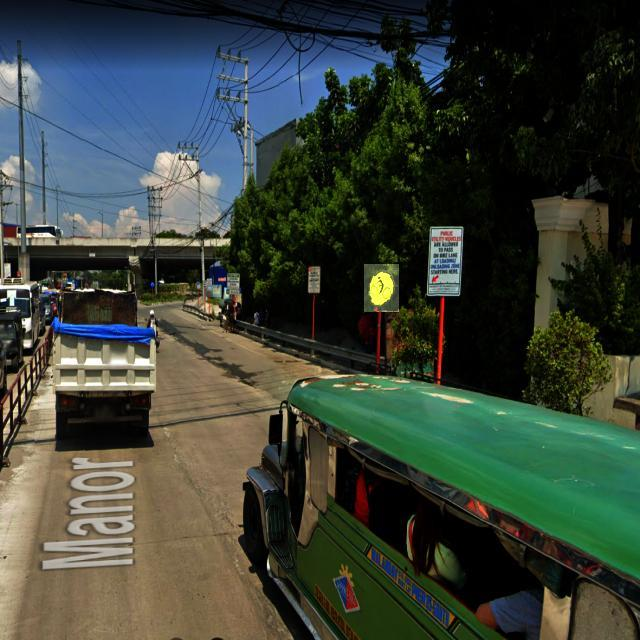bike lane: (364, 264, 399, 312)
